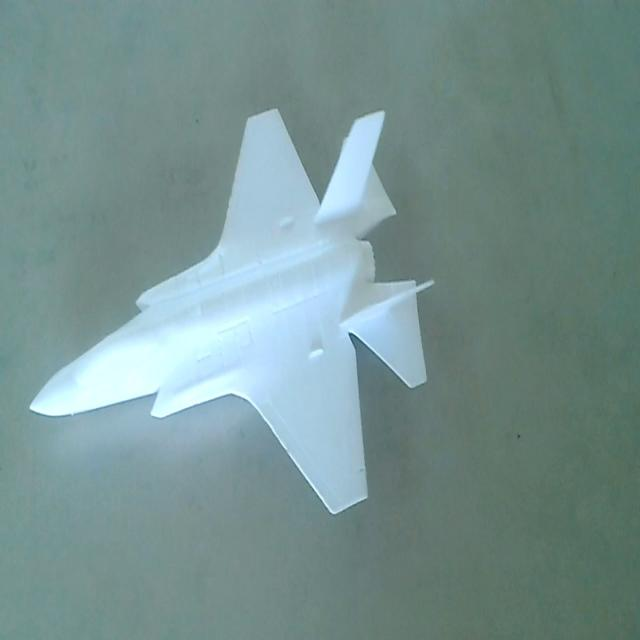Jet: (25, 100, 433, 517)
